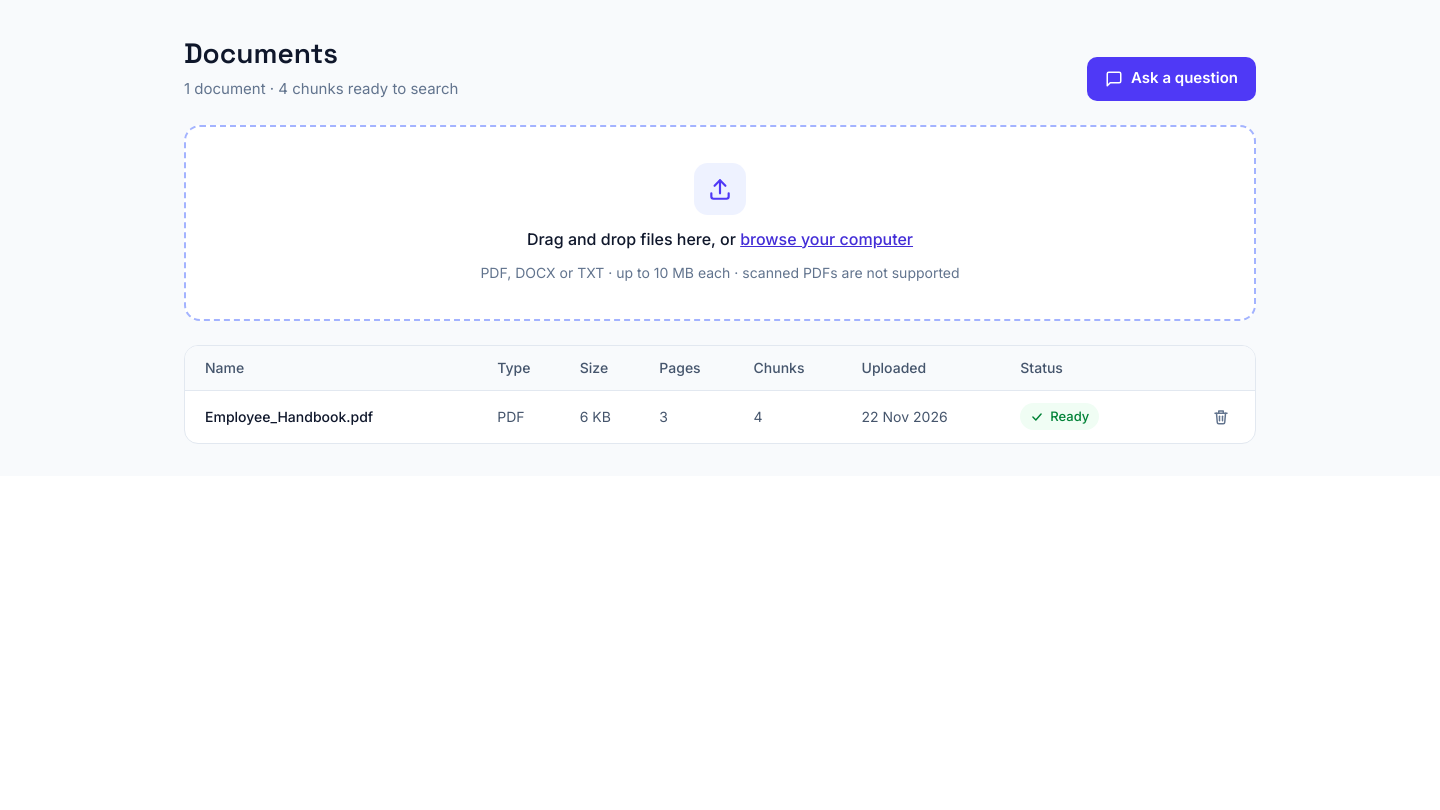
Test: DocumentsPage › asks for confirmation, then deletes the document
The width and height of the screenshot is (1440, 810).
Click the button named "Delete Employee_Handbook.pdf". click: (1221, 416)
box: [1199,394,1243,438]
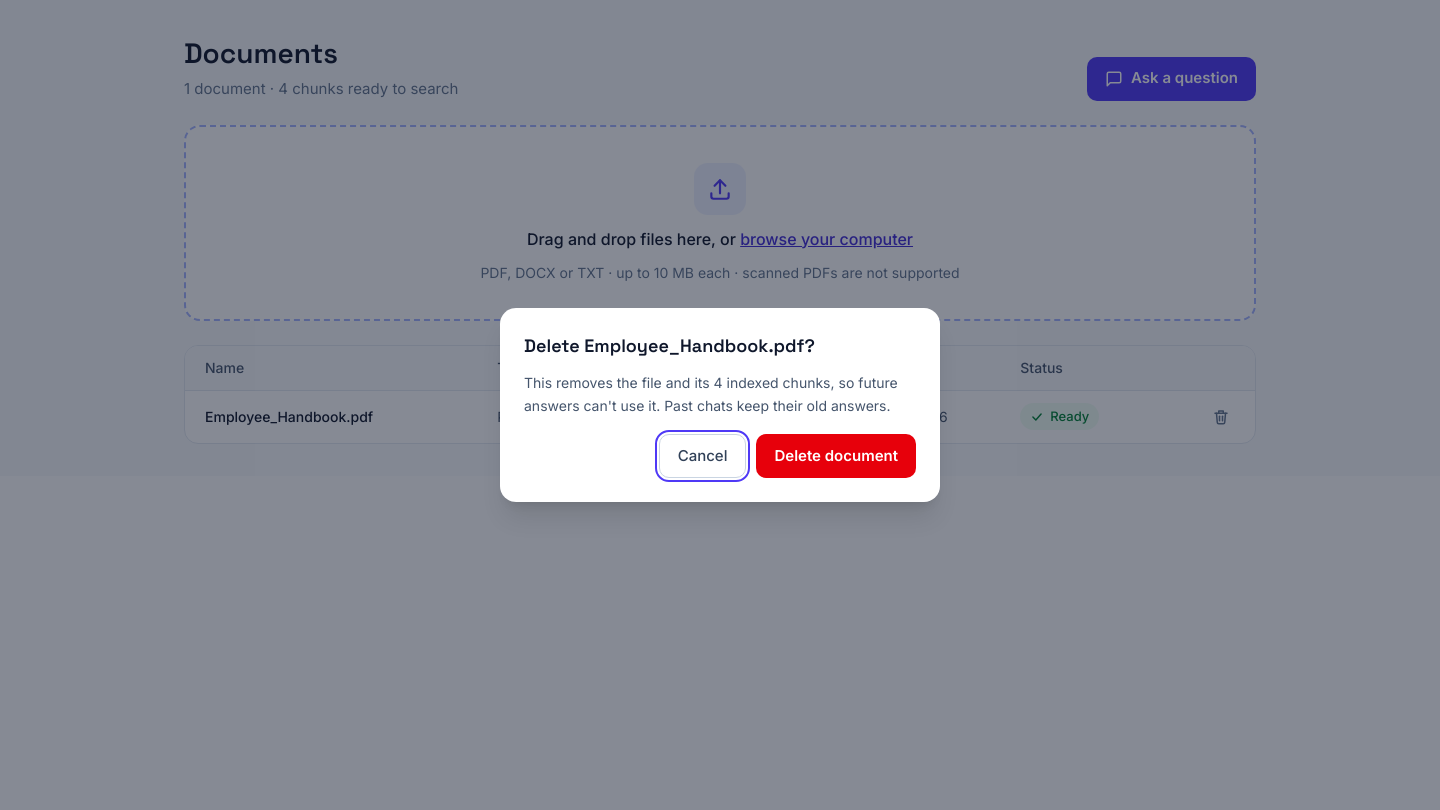
Expected: the heading "Delete Employee_Handbook.pdf?" is shown, [524,334,815,357]
Click the button "Delete document". click: (836, 456)
box: [756,434,916,478]
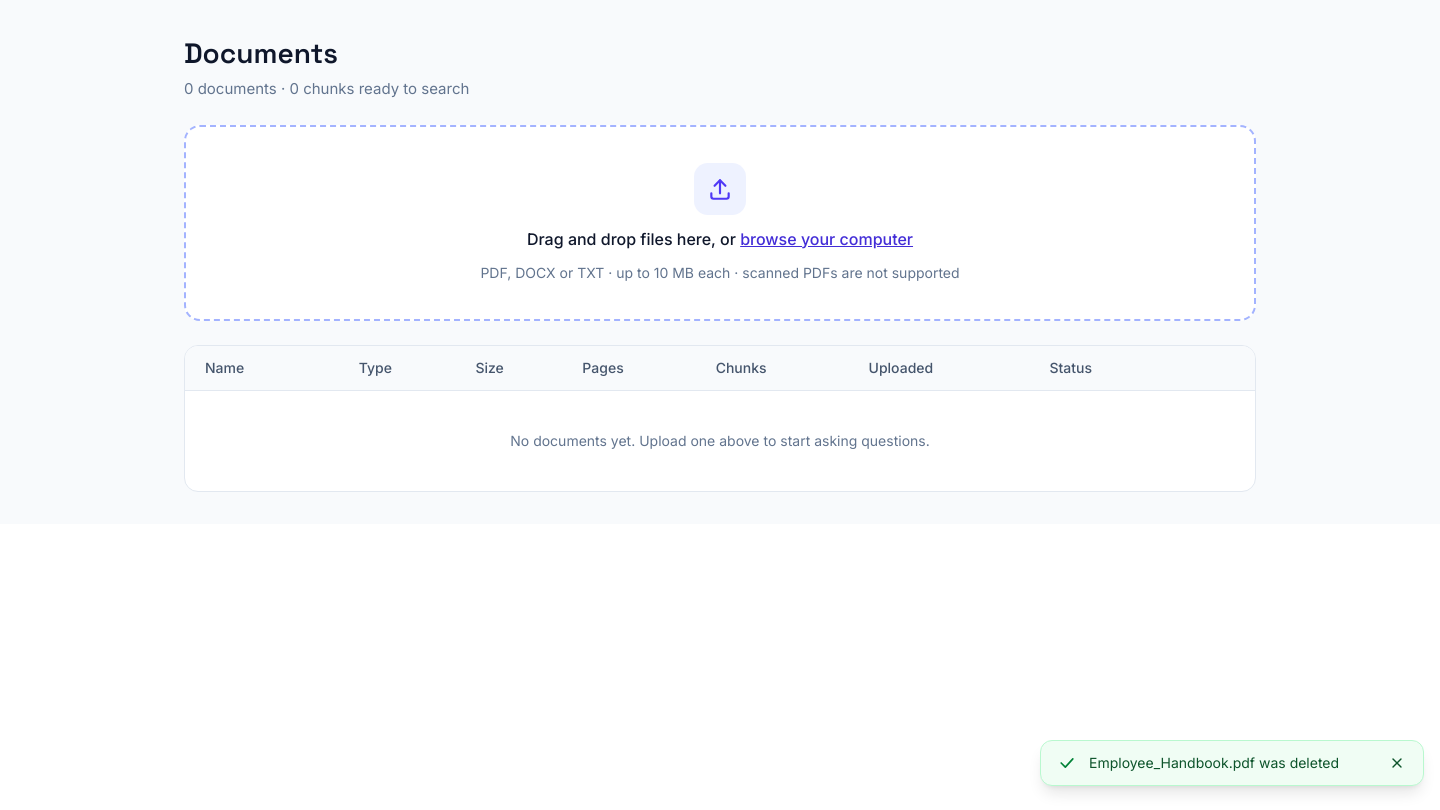
Expected: the text "Employee_Handbook.pdf was deleted" is shown, [1089,753,1375,773]
